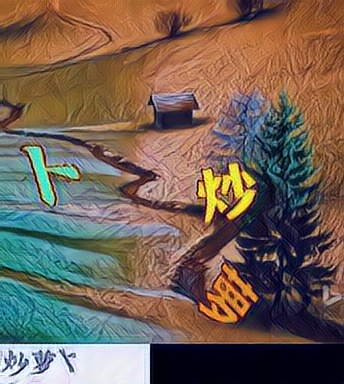B2B7: (13, 140, 78, 204)
B3B4: (193, 161, 258, 225)
C2DC: (194, 264, 259, 328)
